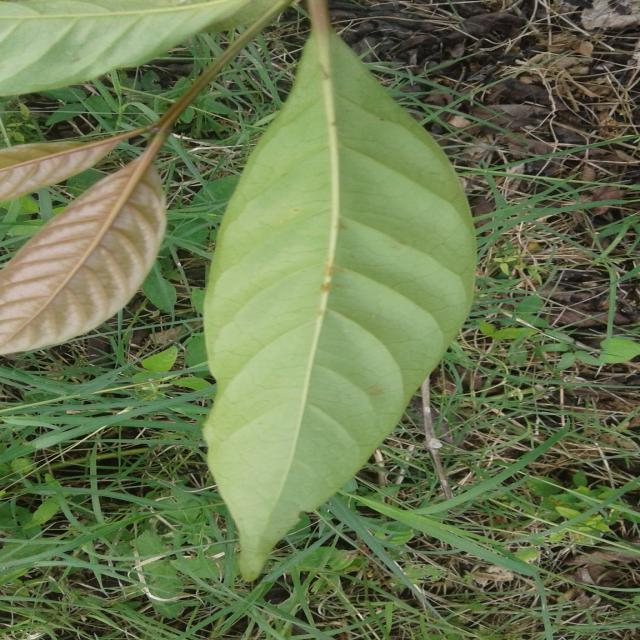Enfermedad-Roya: (202, 0, 478, 585)
